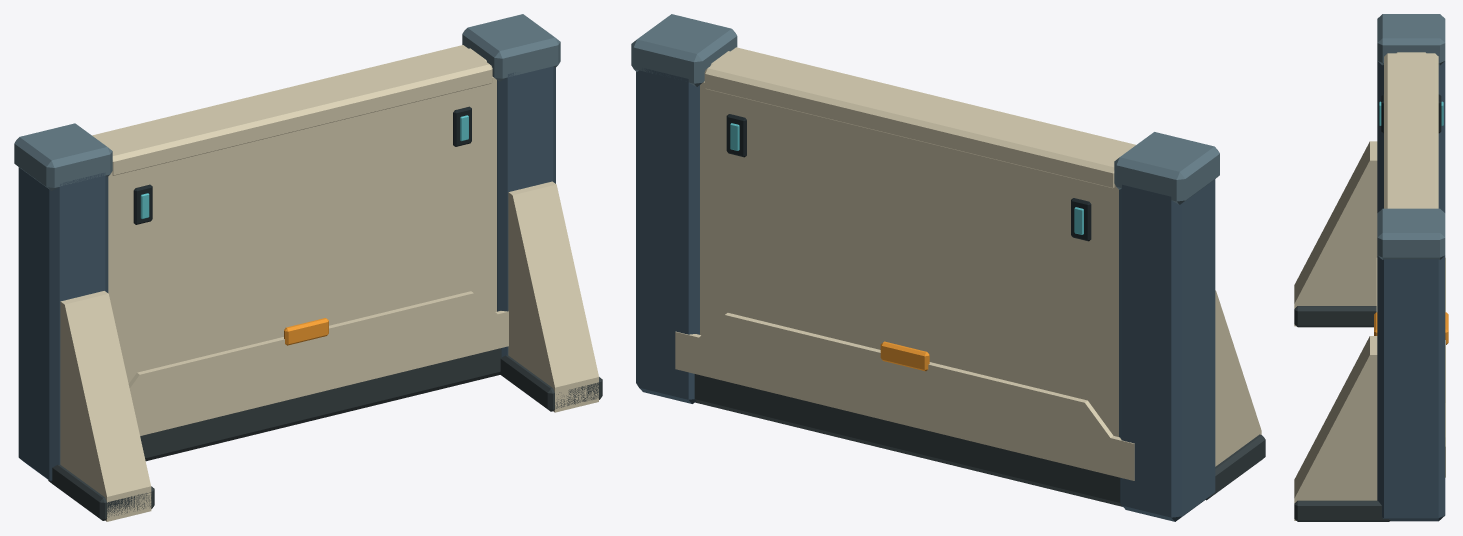
The model's file is emergency-barricade.glb.
The picture shows the model from 3 angles, left to right: view 1: azimuth 30°, elevation 25°; view 2: azimuth 150°, elevation 25°; view 3: azimuth 270°, elevation 25°; orthographic projection. The views are drawn at different scales.
Parts seen in each view (by area): view 1: emergency-barricade; view 2: emergency-barricade; view 3: emergency-barricade.
Boxes of the visible parts, x1,y1,x2,y2 form: emergency-barricade: (14,14,602,521); emergency-barricade: (631,14,1265,521); emergency-barricade: (1294,14,1448,521).
Size of the model in its own units: 2.8 by 1.7 by 0.8175.
Materials: 1 (1 with a texture image).
